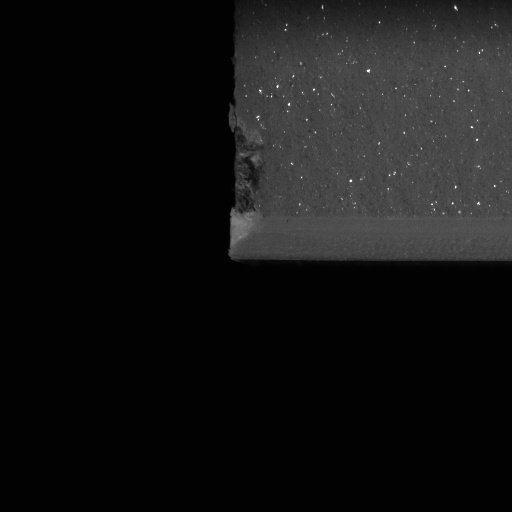bengque: (230, 116, 266, 251)
